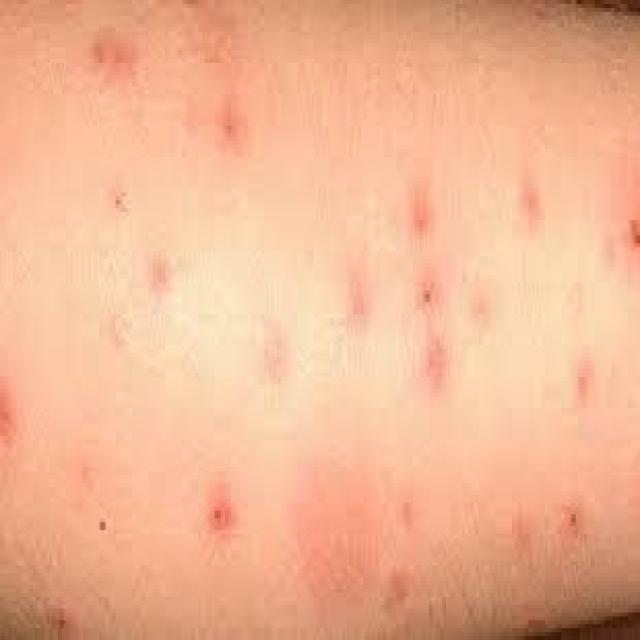tahta-kurusu: (58, 22, 170, 113), (398, 259, 461, 398), (206, 87, 274, 196), (129, 228, 194, 332), (250, 321, 309, 403), (557, 330, 602, 424), (203, 473, 265, 538), (558, 484, 609, 559), (333, 265, 383, 337), (391, 173, 447, 235), (522, 166, 558, 254), (1, 368, 29, 453), (388, 493, 418, 538), (629, 194, 640, 279)
